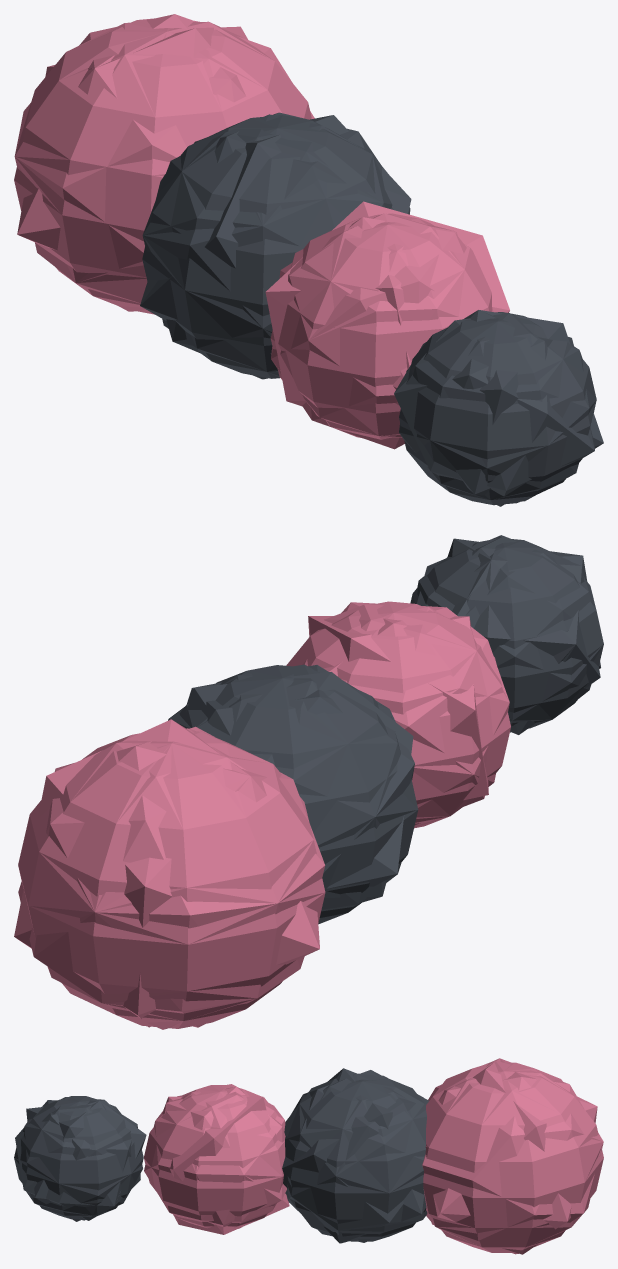
Rendered from SM_Leech.fbx.
3 views of the same model, one above another, from view 1: azimuth 30°, elevation 25°; view 2: azimuth 150°, elevation 25°; view 3: azimuth 270°, elevation 25° (orthographic). The views are drawn at different scales.
Visible parts, largest first — view 1: SM_Leech, LOD1_SM_Leech, LOD2_SM_Leech, LOD3_SM_Leech; view 2: SM_Leech, LOD1_SM_Leech, LOD2_SM_Leech, LOD3_SM_Leech; view 3: SM_Leech, LOD1_SM_Leech, LOD2_SM_Leech, LOD3_SM_Leech.
Boxes of the visible parts, <box> form: SM_Leech: <box>14,18,596,505</box>; LOD1_SM_Leech: <box>14,21,596,501</box>; LOD2_SM_Leech: <box>15,14,594,506</box>; LOD3_SM_Leech: <box>17,26,603,495</box>; SM_Leech: <box>18,538,603,1028</box>; LOD1_SM_Leech: <box>18,536,603,1029</box>; LOD2_SM_Leech: <box>18,535,600,1027</box>; LOD3_SM_Leech: <box>14,538,600,1027</box>; SM_Leech: <box>14,1062,603,1252</box>; LOD1_SM_Leech: <box>14,1060,603,1253</box>; LOD2_SM_Leech: <box>15,1058,603,1254</box>; LOD3_SM_Leech: <box>26,1058,597,1254</box>.
Size of the model in its own units: 0.3135 by 0.3123 by 0.9.
